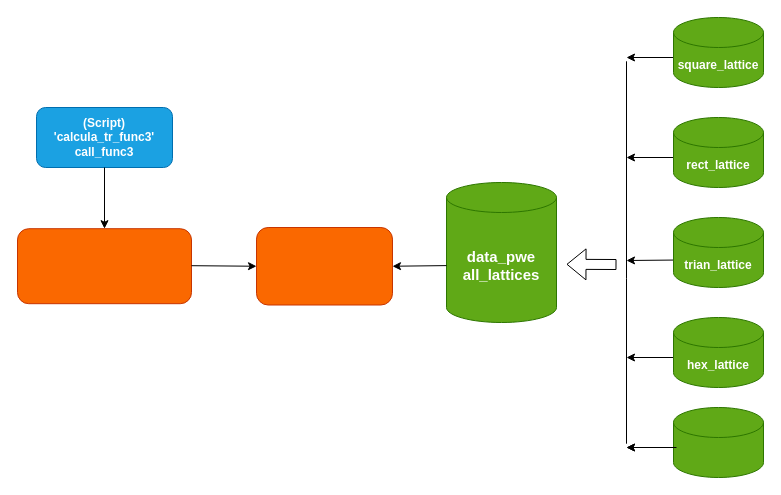
Image size: 781x495. Some labels were removed from this diagram. Here are the shapes that lost their labels. From the top down, the box of each, then its label:
(16, 228, 192, 304): (Function) 'func3_frf_disp' call_func_lattice_type_full
(256, 226, 392, 305): (Function) 'func_lattice_type_full' call_database
(672, 406, 764, 478): kag_lattice
